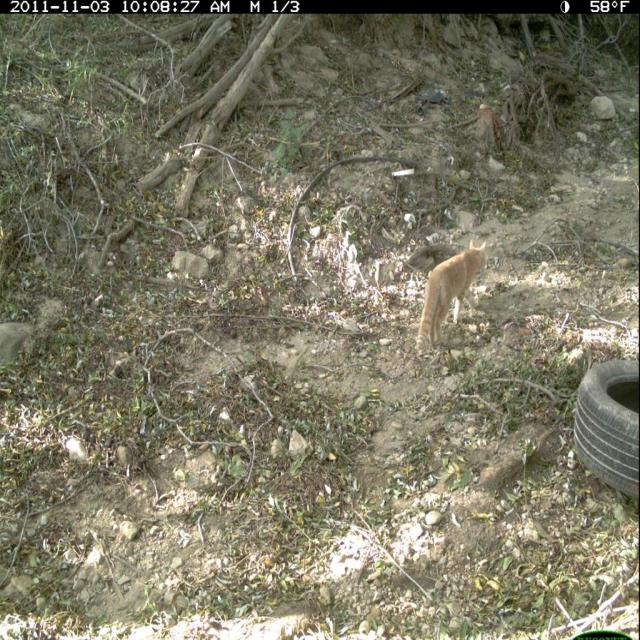cat: (416, 242, 493, 354)
